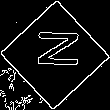N_W: (29, 34, 81, 76)
